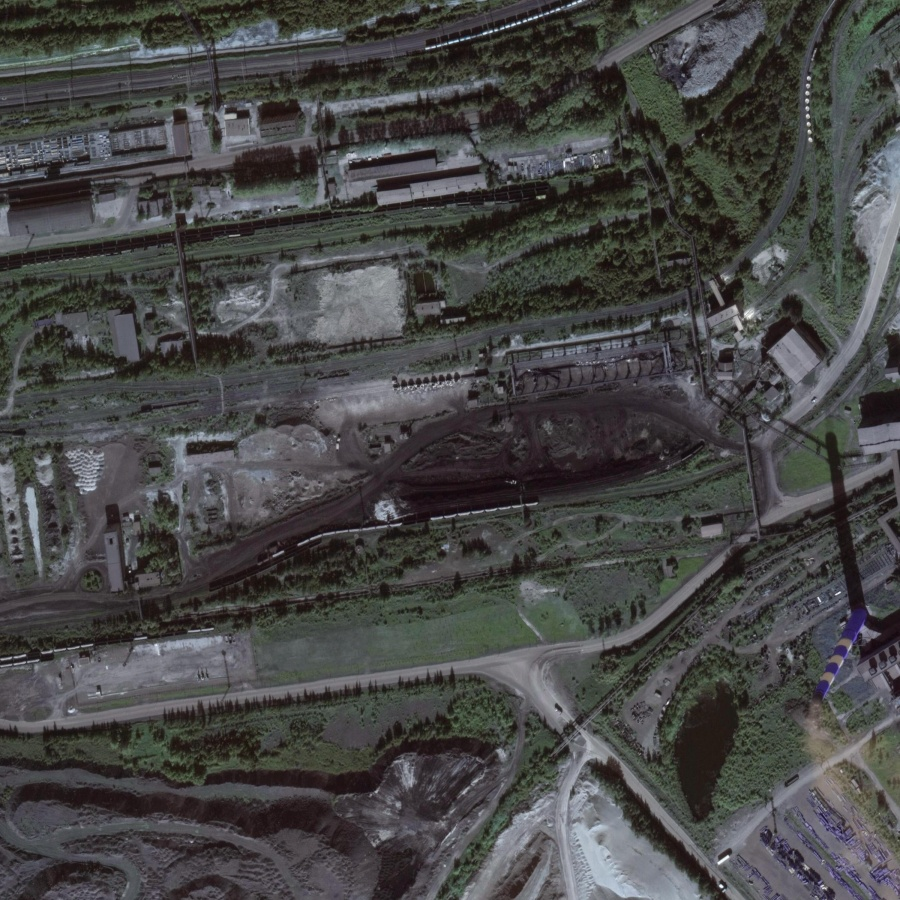PowerPlant: (273, 368, 713, 532)
